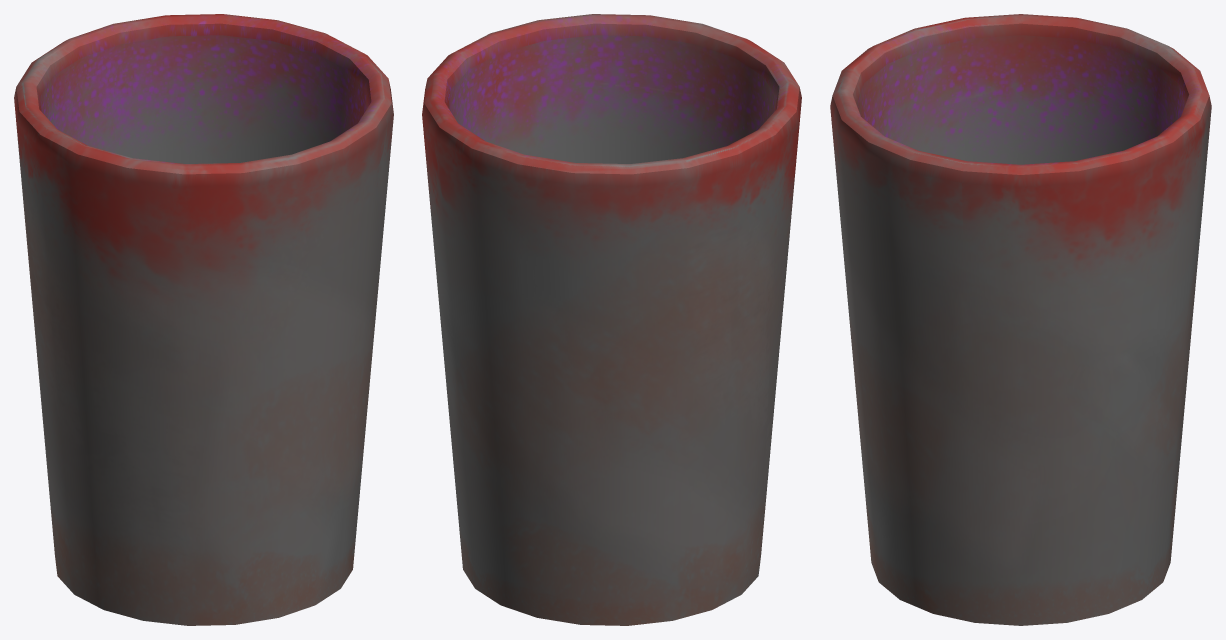
Rendered from Lata de lixo.fbx.
3 renders of one model, left to right at view 1: azimuth 30°, elevation 25°; view 2: azimuth 150°, elevation 25°; view 3: azimuth 270°, elevation 25°, orthographic.
Visible parts, largest first — view 1: Lixo; view 2: Lixo; view 3: Lixo.
Part boxes in pixels (x1=…): Lixo: x1=14, y1=14, x2=393, y2=625; Lixo: x1=422, y1=14, x2=801, y2=625; Lixo: x1=830, y1=14, x2=1211, y2=625.
Bounding box in the file's own units: 2.55 × 3.48 × 2.55.
